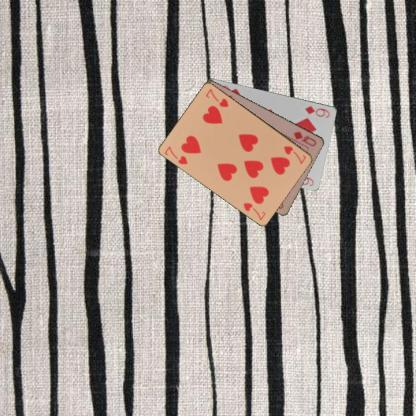6d: (302, 103, 331, 119)
7h: (162, 143, 189, 166), (282, 144, 308, 166)
Qd: (290, 128, 318, 148)
